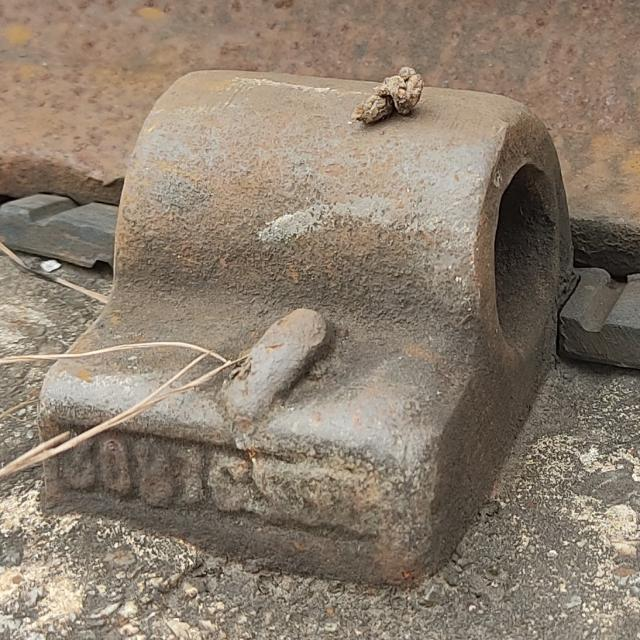track_bolt_missing: (101, 63, 579, 343)
